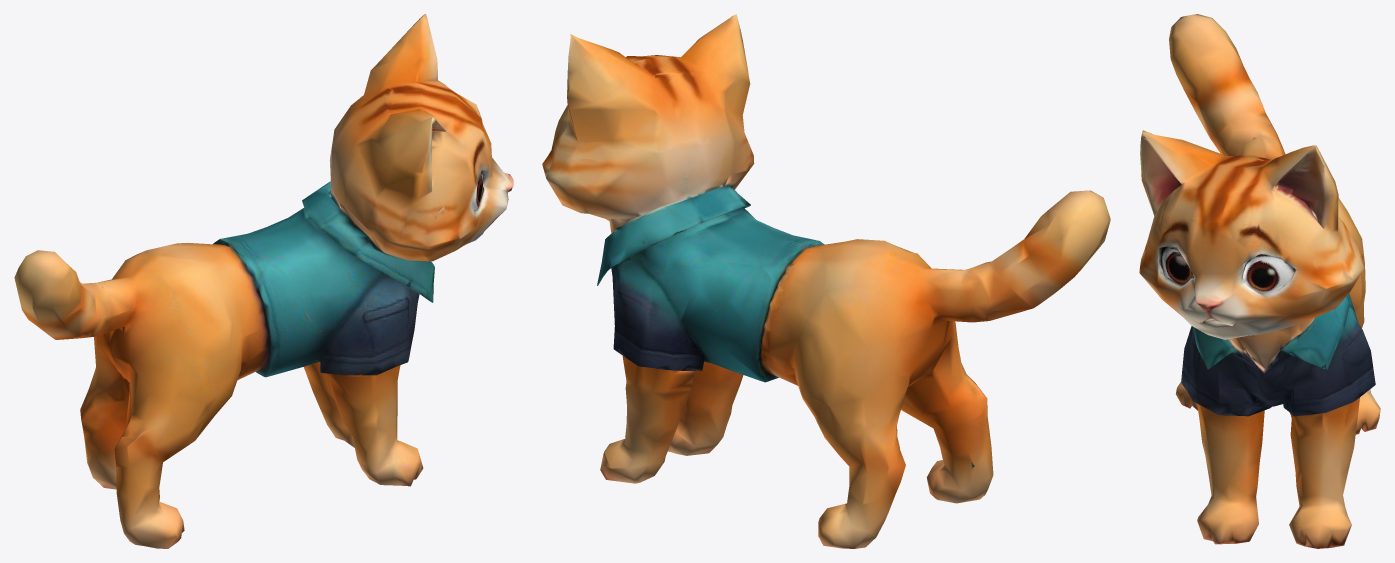
The model's file is CHIK-lo.glb.
3 renders of one model, left to right at view 1: azimuth 30°, elevation 25°; view 2: azimuth 150°, elevation 25°; view 3: azimuth 270°, elevation 25°, orthographic. The views are drawn at different scales.
Visible parts, largest first — view 1: fit; view 2: fit; view 3: fit.
Part boxes in pixels (box(x1,y1,x2,y2)): fit: box(14, 14, 513, 548); fit: box(542, 14, 1110, 548); fit: box(1139, 14, 1380, 548).
Size of the model in its own units: 1.26 by 0.9994 by 0.5103.
Materials: 1 (1 with a texture image).
